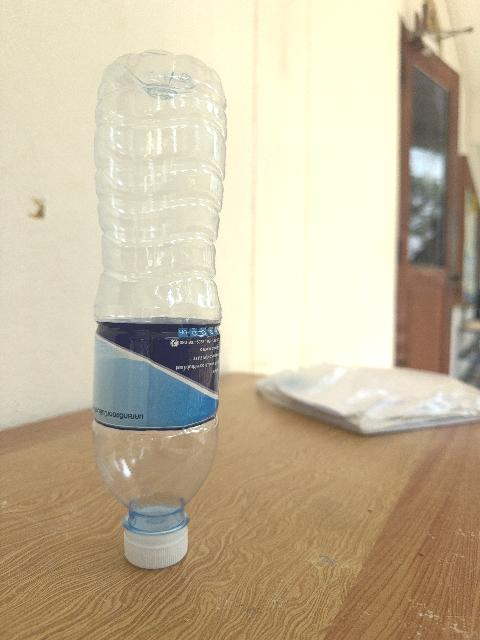bottle: (92, 51, 225, 568)
